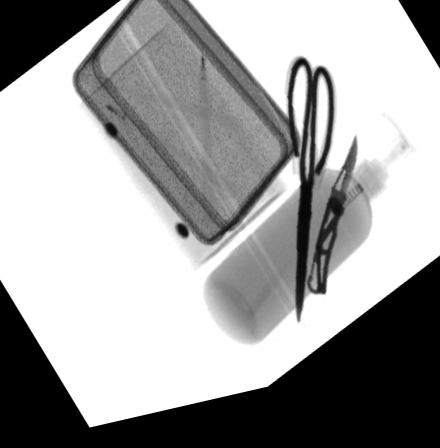Knife: (307, 151, 357, 308)
Scissors: (287, 73, 334, 337)
